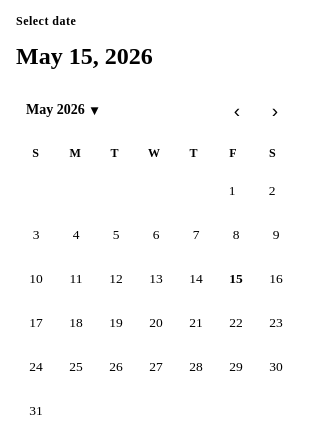
it: DatePicker & DatePickerField › toggles DatePicker year grid view and adapts firstDayOfWeek + 2D arrow roving
Press ArrowDown in the button with class "m3e-date-picker__day" showing "15", box [216,259,256,299]
Expected: the button with class "m3e-date-picker__day" reads "22", [216,303,256,343]
Click the button with class "m3e-date-picker__year-toggle" at (62, 110), box [16,96,108,124]
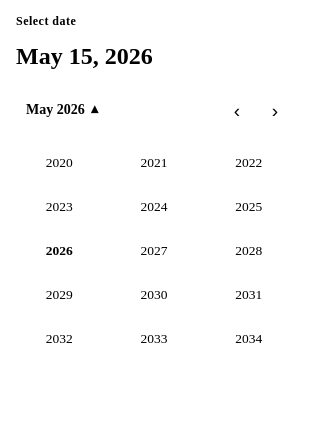
Result: the button with class "m3e-date-picker__year-toggle" is expanded at [16,96,108,124]
Result: the number of options with class "m3e-date-picker__year-pill" is 15
